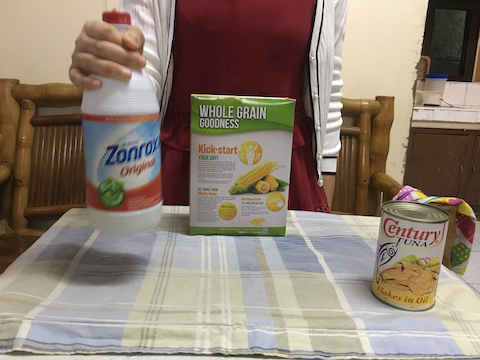bottle: (81, 9, 167, 236)
box: (184, 90, 300, 236)
can: (369, 199, 452, 314)
grab: (65, 16, 151, 94)
